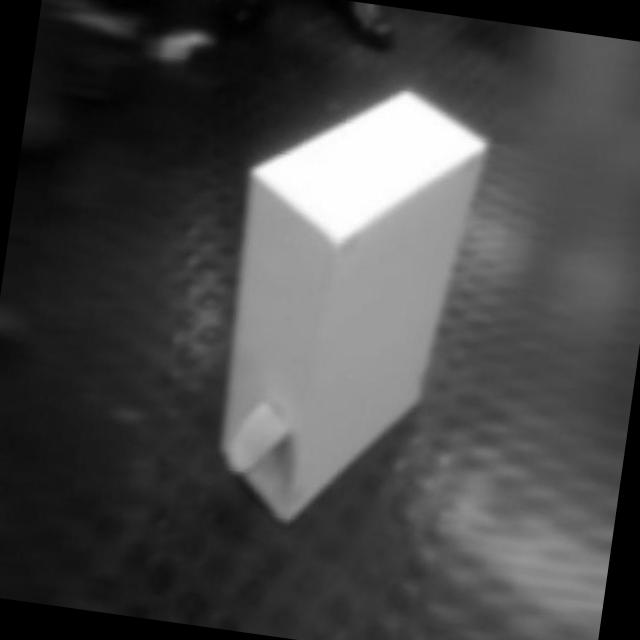box: (185, 60, 502, 554)
